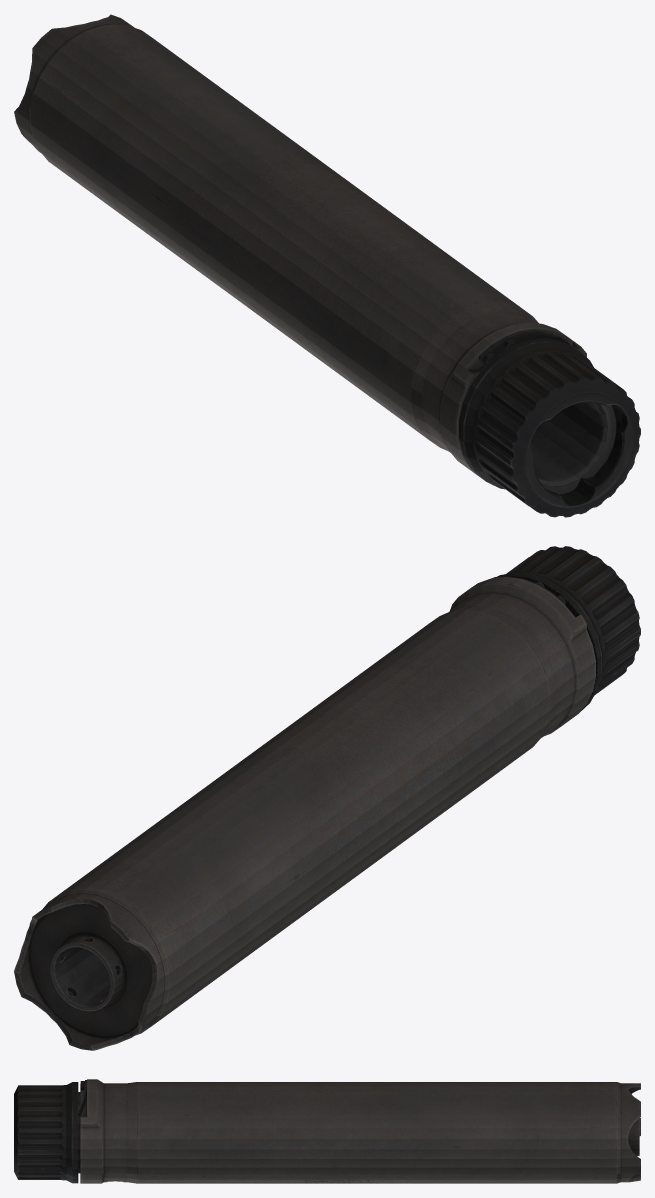
3 renders of one model, top to bottom at view 1: azimuth 30°, elevation 25°; view 2: azimuth 150°, elevation 25°; view 3: azimuth 270°, elevation 25°, orthographic. The views are drawn at different scales.
Parts seen in each view (by area): view 1: TW_6171367e1cb55961fa0fdb36_PZ_Import; view 2: TW_6171367e1cb55961fa0fdb36_PZ_Import; view 3: TW_6171367e1cb55961fa0fdb36_PZ_Import.
Part boxes in pixels (x1,y1,x2,y2): TW_6171367e1cb55961fa0fdb36_PZ_Import: [14, 14, 640, 517]; TW_6171367e1cb55961fa0fdb36_PZ_Import: [14, 546, 640, 1050]; TW_6171367e1cb55961fa0fdb36_PZ_Import: [14, 1079, 640, 1183].
Size of the model in its own units: 0.0224 by 0.1387 by 0.0231.
1 material, 1 textured.
